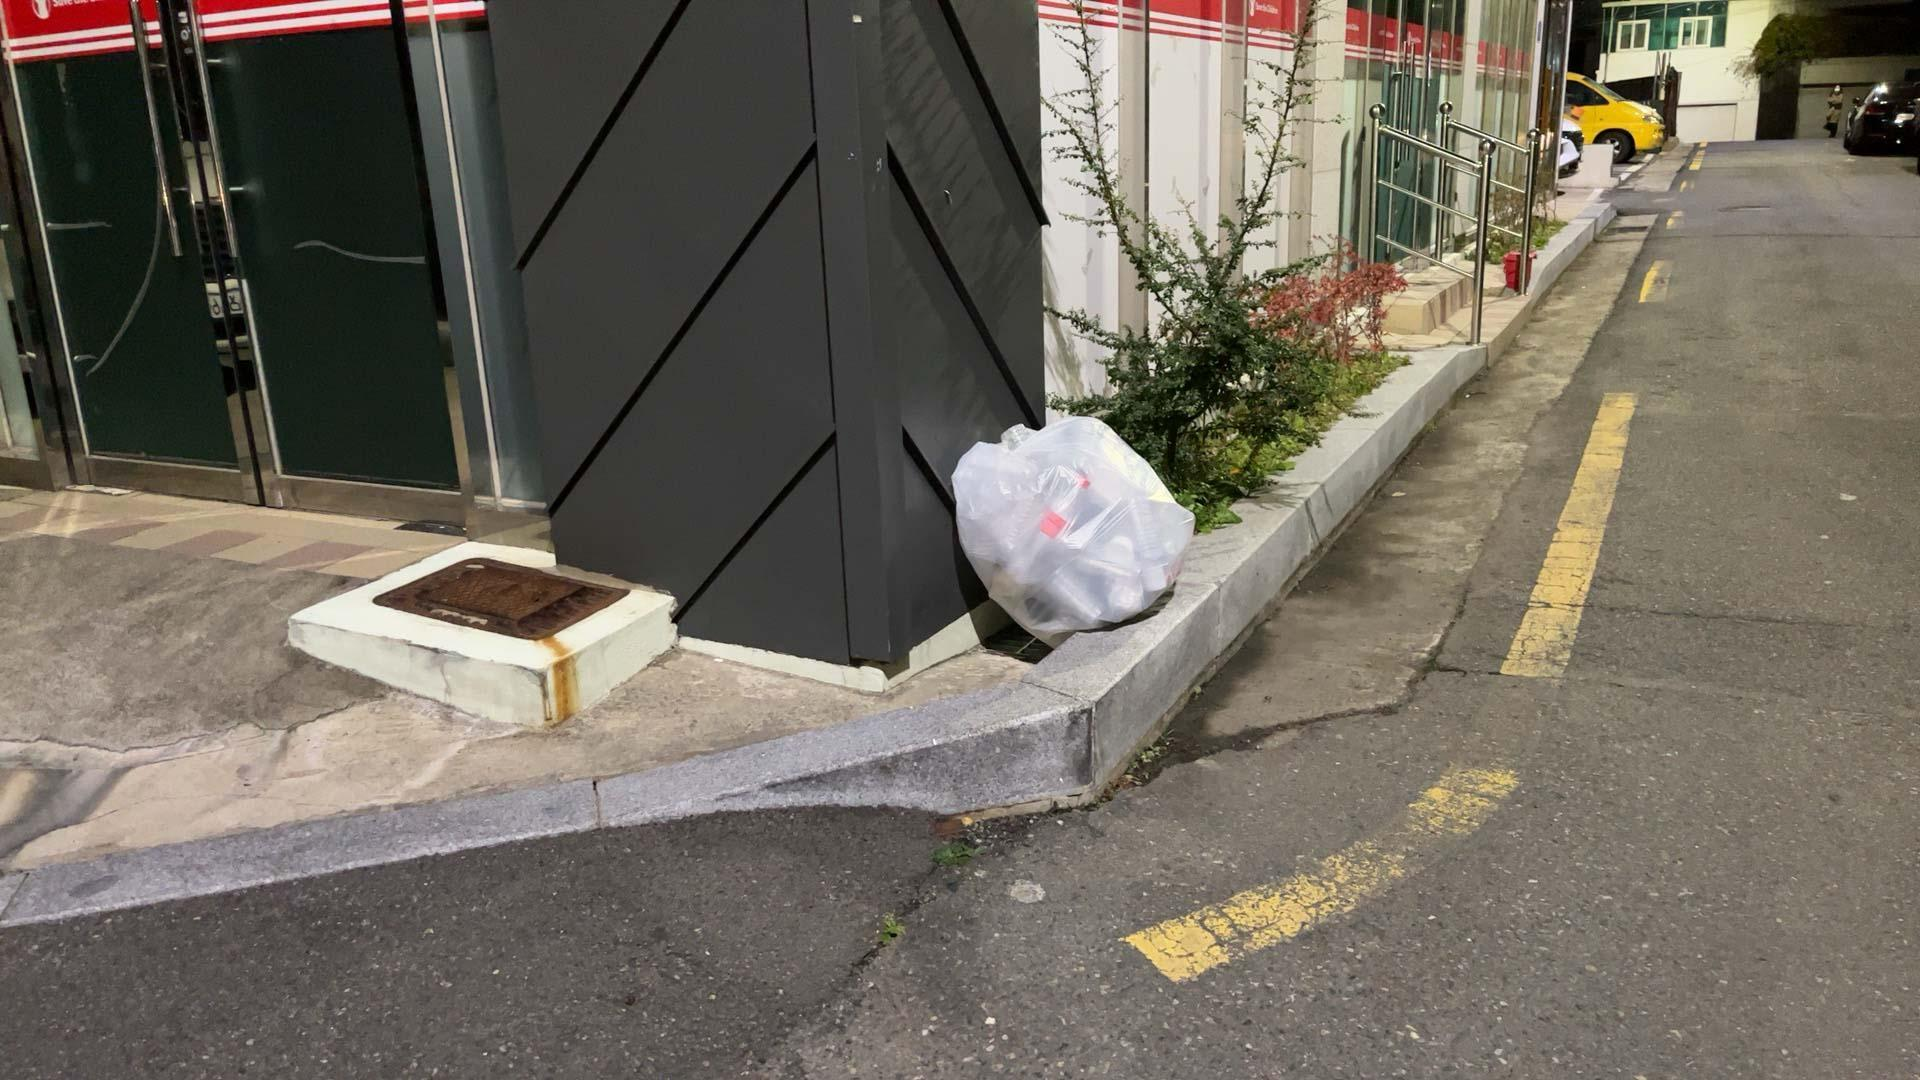white_bag: (936, 407, 1203, 644)
